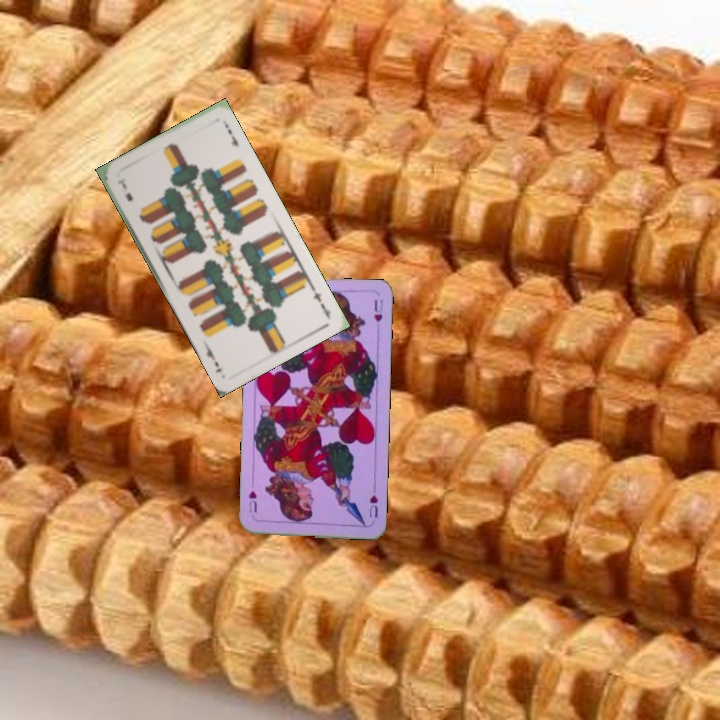E7: (307, 282, 333, 320), (114, 174, 136, 204)
HU: (365, 491, 380, 520)
